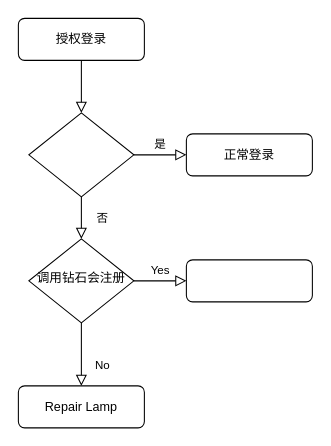
Some shapes in this 331 by 446 pixel diagram are drawn without their labels. Each missing label, with the centre of its shape:
"Replace Bulb" belongs at point 248,280.
"手机号是否存在社区大脑" belongs at point 81,154.
